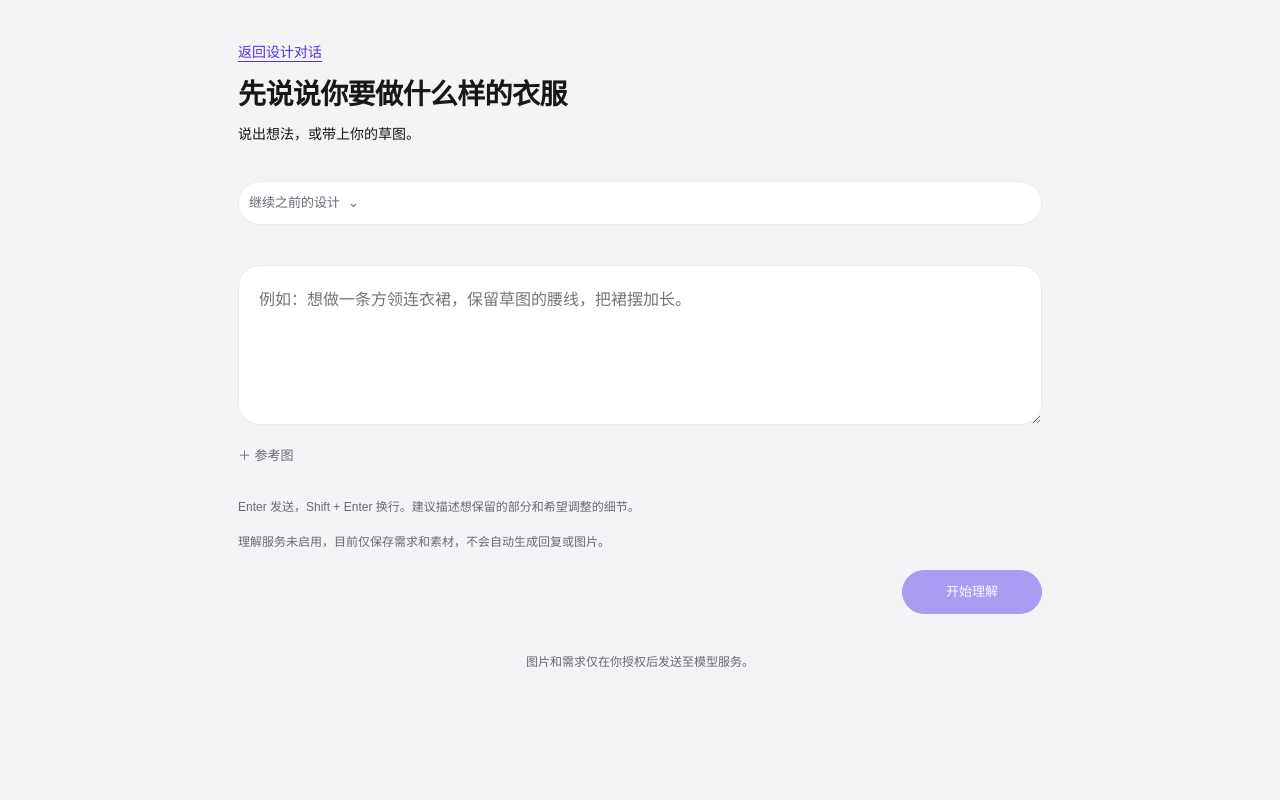
统一的开始理解入口 › 无需项目名，未开通时保存文字且不提交模型任务
Type "保留方领和腰线" into the text box labelled "说说你要做什么样的衣服" at (640, 345), box [238,265,1042,425]
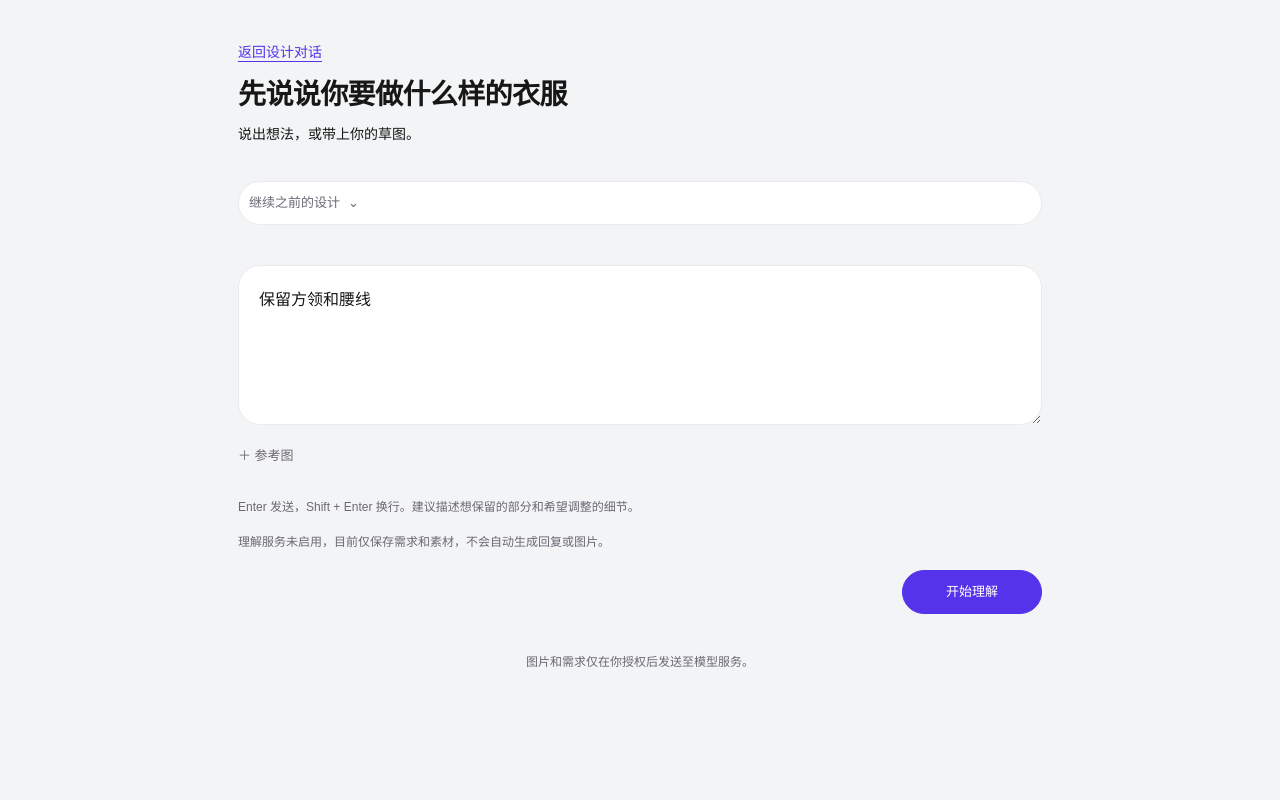
Click the button "开始理解" at (972, 592), box [902,570,1042,614]
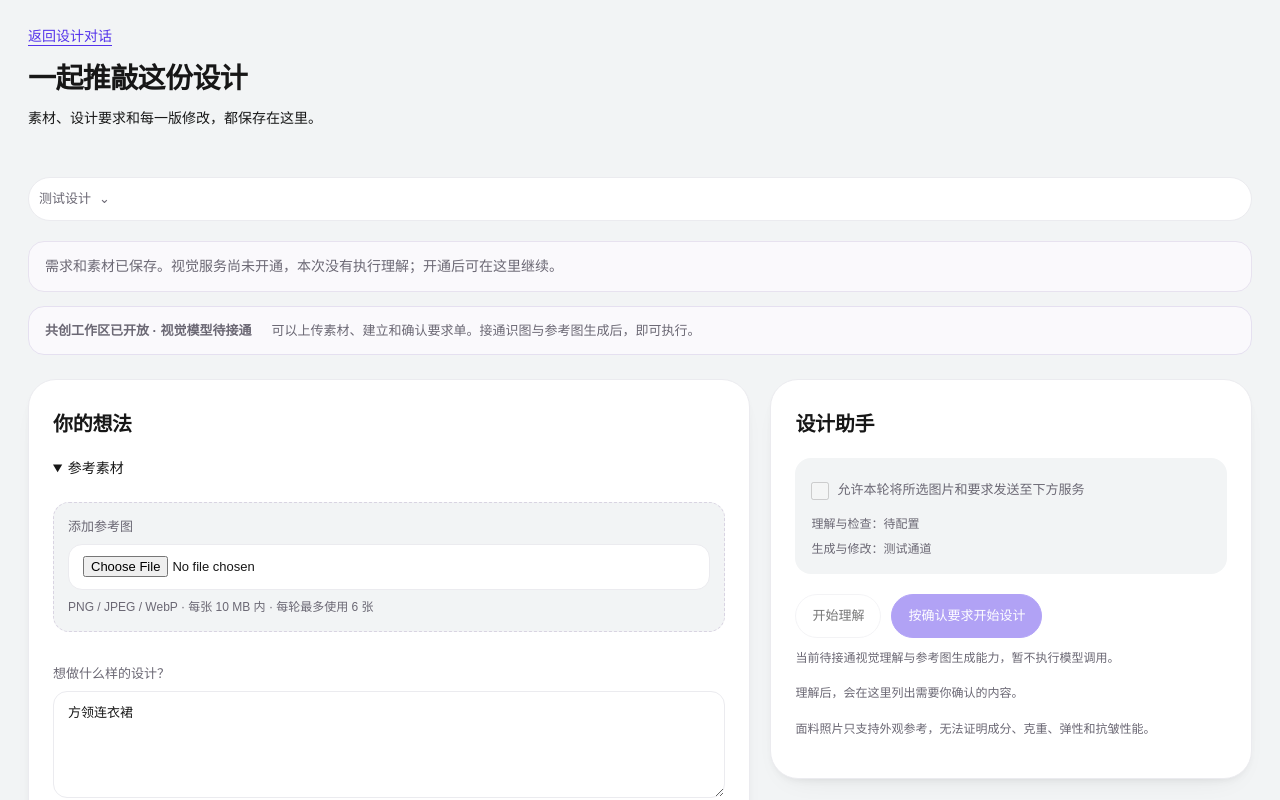
Check: the text "需求和素材已保存。视觉服务尚未开通，本次没有执行理解；开通后可在这里继续。" is shown, box [28,241,1252,292]
